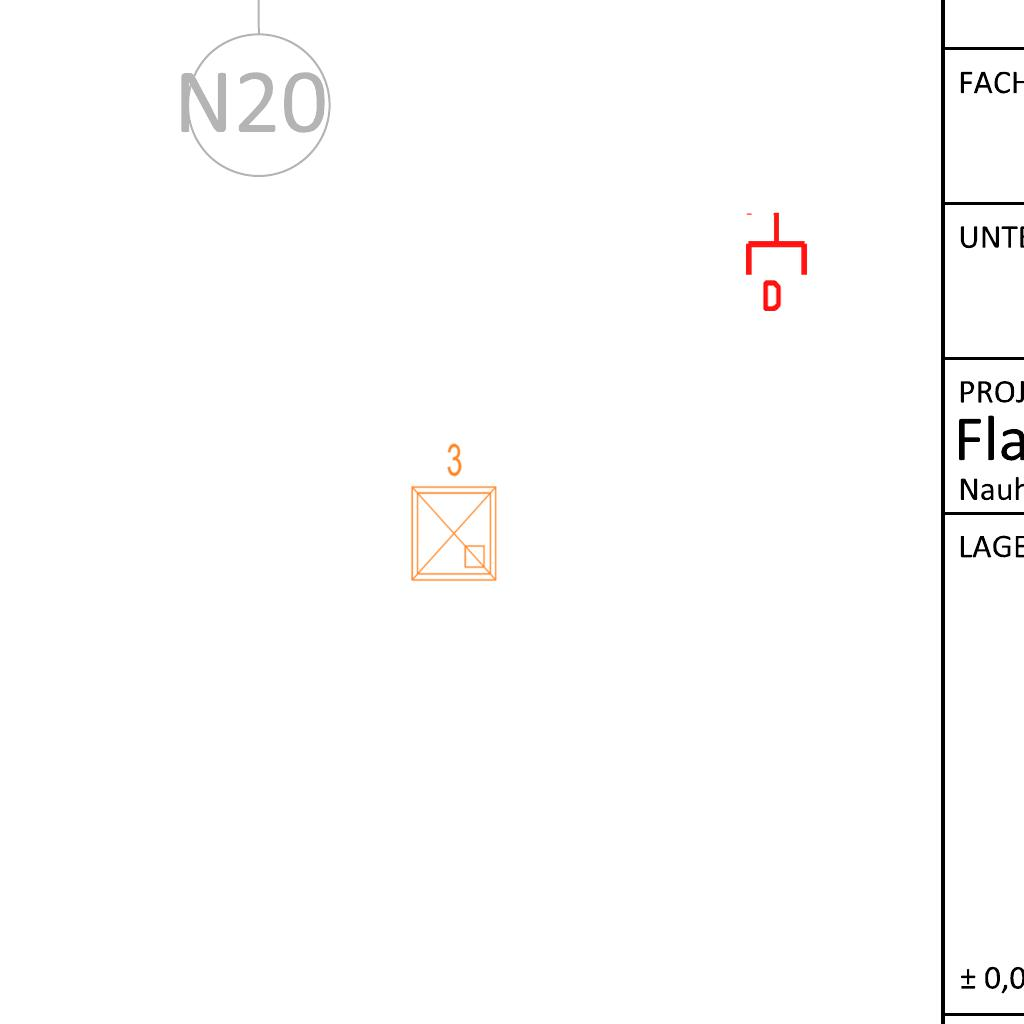Datenanschluss_einfach: (742, 211, 811, 311)
Einbaudownlights_LED_Konferenzraeume: (400, 438, 504, 588)
